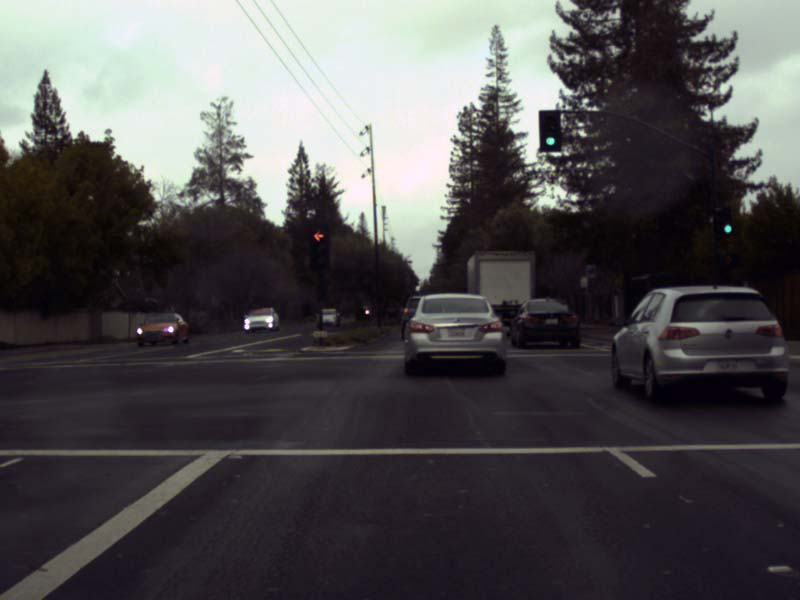Green: (538, 110, 560, 152), (721, 206, 731, 234)
Red: (309, 225, 329, 268)
